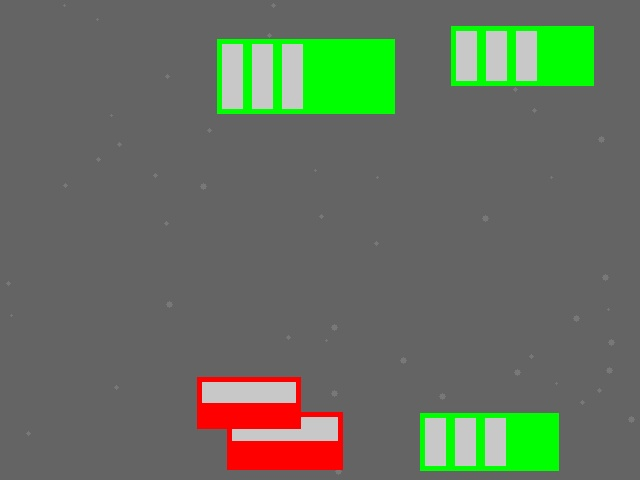bus: (217, 39, 394, 113), (451, 26, 593, 85), (420, 413, 558, 470)
car: (227, 412, 342, 469), (197, 377, 300, 428)
